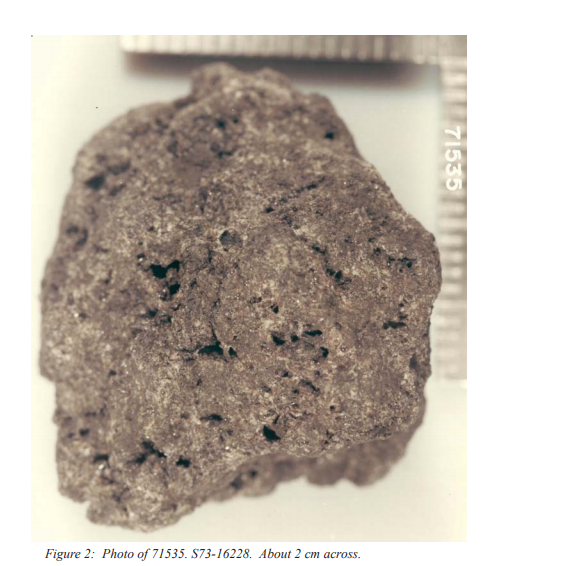Basalt: (12, 94, 444, 513), (119, 211, 339, 471)
